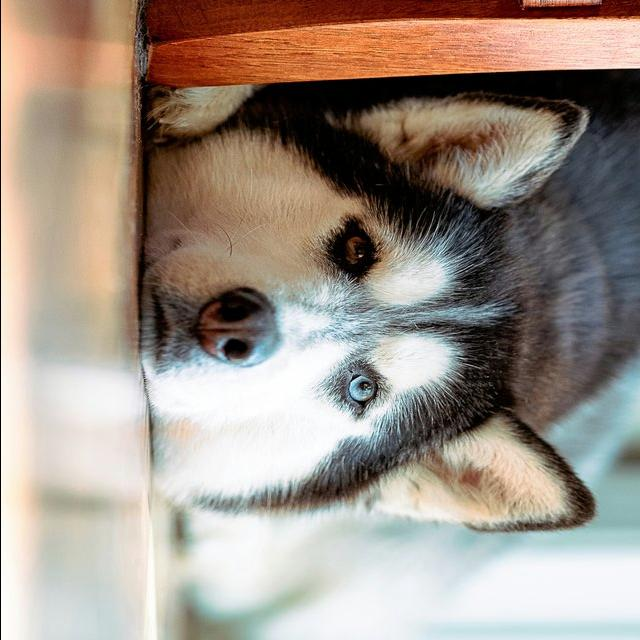husky: (137, 70, 640, 538)
